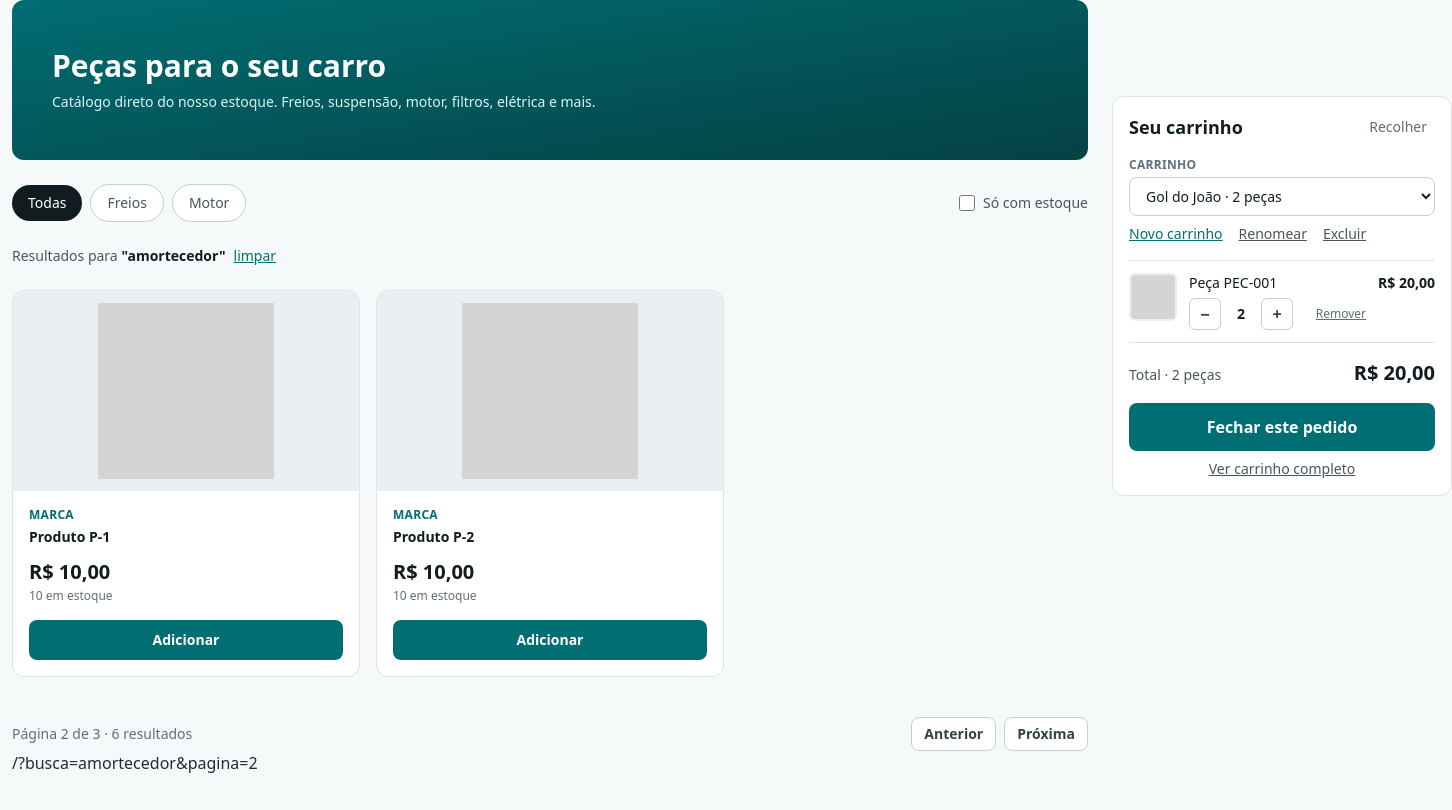
Test: KZN-325: mudar a busca ou o filtro volta para a primeira pagina › escolher uma categoria descarta ?pagina= e mantem a busca
This screenshot has width=1452, height=810.
Click the button "freios" at (127, 203), box left=90, top=184, right=164, bottom=222
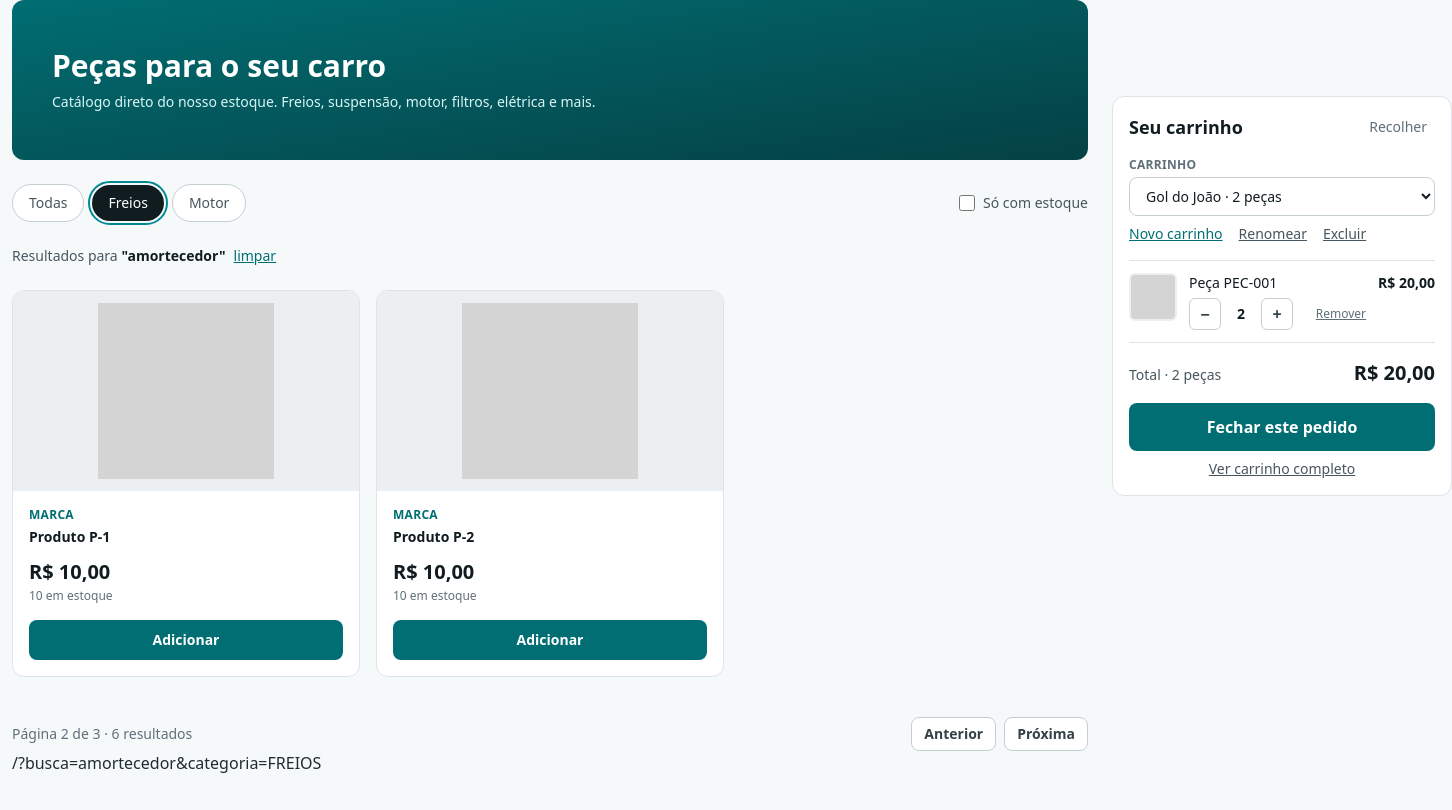
Now the text with test id "url" reads "/?busca=amortecedor&categoria=FREIOS", box left=12, top=752, right=321, bottom=774
